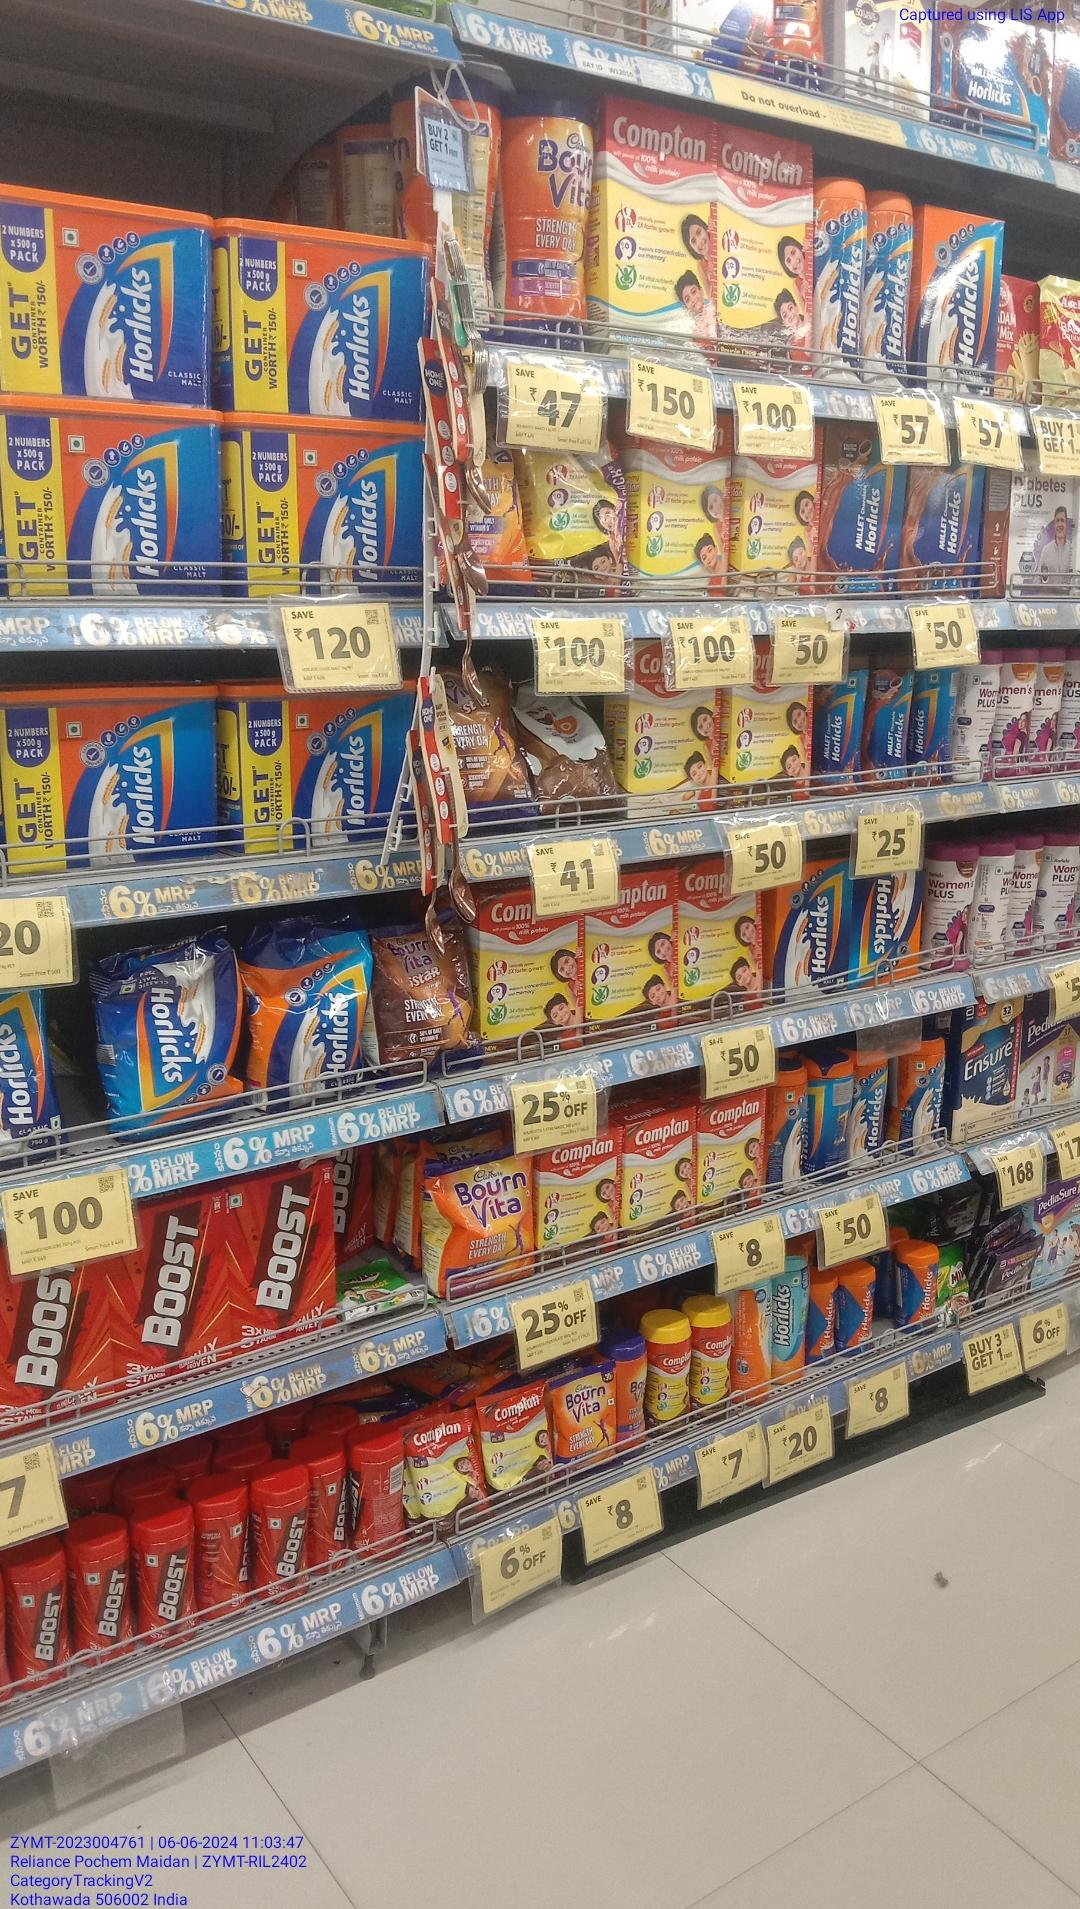HORLICKS_LITE_REGULAR_MALT_500_GM_JAR: (772, 1248, 815, 1383)
HORLICK_CLASSIC_MALT_500_G_JAR: (849, 1057, 886, 1168), (904, 1044, 938, 1156)
HORLICK_CLASSIC_MALT_500_G_PACK: (781, 857, 861, 981), (862, 876, 925, 981)
HORLICK_CLASSIC_MALT_750_G_POUCH: (114, 923, 237, 1126), (246, 947, 391, 1101)
HORLICK_MALT_1_KG_CONTAINER: (0, 408, 228, 594), (0, 207, 204, 400), (225, 222, 421, 421), (0, 695, 223, 857), (224, 421, 421, 577), (229, 686, 412, 846)
